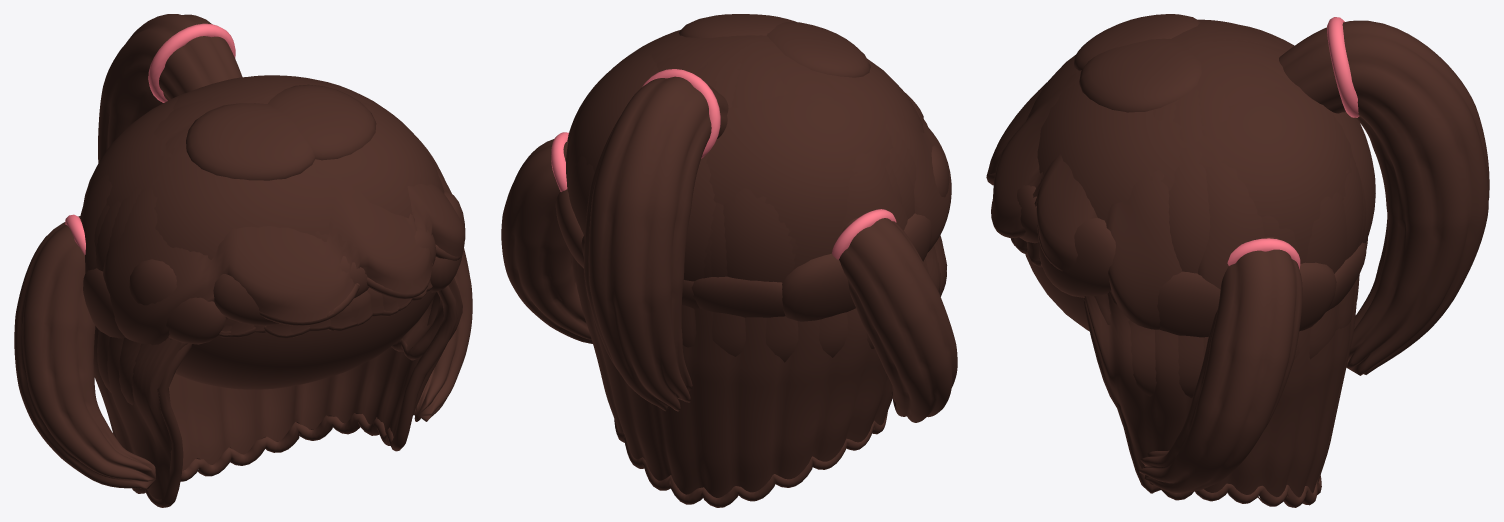
Rendered from pack_hair.glb.
3 views of the same model, side by side, from view 1: azimuth 30°, elevation 25°; view 2: azimuth 150°, elevation 25°; view 3: azimuth 270°, elevation 25° (orthographic). The views are drawn at different scales.
Visible parts, largest first — view 1: Hair_M01, Hair_M02, Hair_F04, Hair_F03, Hair_F02, Hair_F01, Hair_M04; view 2: Hair_M01, Hair_F04, Hair_F02, Hair_F03, Hair_M02, Hair_M04, Hair_F01; view 3: Hair_M01, Hair_F02, Hair_M02, Hair_F04, Hair_F03, Hair_M04, Hair_F01.
Boxes of the visible parts, bbox=[...] form: Hair_M01: bbox=[83, 76, 465, 389]; Hair_M02: bbox=[80, 75, 465, 345]; Hair_F04: bbox=[93, 204, 462, 507]; Hair_F03: bbox=[14, 214, 472, 489]; Hair_F02: bbox=[98, 14, 383, 331]; Hair_F01: bbox=[96, 203, 443, 405]; Hair_M04: bbox=[108, 75, 396, 250]; Hair_M01: bbox=[555, 14, 949, 321]; Hair_F04: bbox=[571, 162, 947, 507]; Hair_F02: bbox=[584, 69, 728, 411]; Hair_F03: bbox=[501, 132, 957, 422]; Hair_M02: bbox=[568, 30, 951, 282]; Hair_M04: bbox=[566, 33, 916, 281]; Hair_F01: bbox=[572, 152, 940, 362]; Hair_M01: bbox=[1002, 14, 1367, 337]; Hair_F02: bbox=[1279, 17, 1489, 375]; Hair_M02: bbox=[986, 20, 1375, 329]; Hair_F04: bbox=[1010, 110, 1360, 507]; Hair_F03: bbox=[1139, 237, 1302, 492]; Hair_M04: bbox=[1168, 19, 1370, 273]; Hair_F01: bbox=[1014, 178, 1366, 398].
Size of the model in its own units: 0.8267 by 0.7901 by 0.7666.
